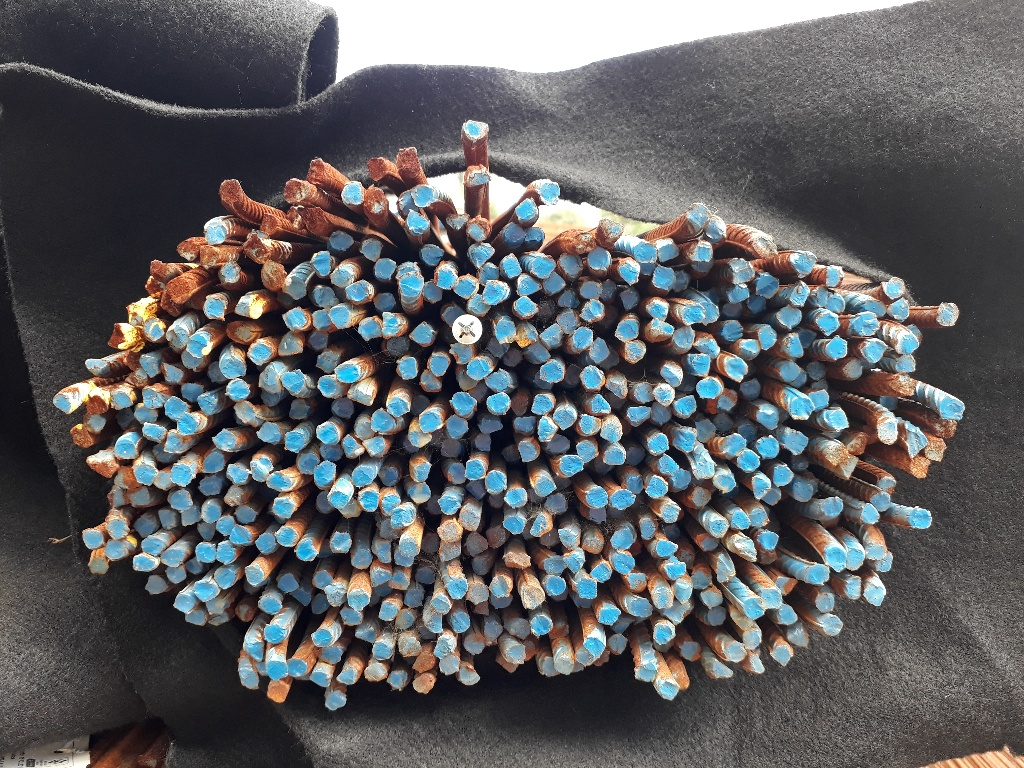dipstick: (107, 324, 140, 350), (260, 259, 287, 290), (242, 235, 270, 264), (790, 250, 817, 278), (235, 293, 263, 320), (731, 535, 757, 563), (226, 321, 257, 344), (467, 243, 494, 269), (530, 255, 557, 280), (450, 392, 478, 416), (257, 363, 281, 391), (664, 599, 693, 622), (891, 371, 916, 397), (729, 258, 755, 283), (789, 396, 815, 421), (671, 427, 697, 452), (467, 217, 492, 243), (453, 274, 479, 299), (370, 407, 395, 433), (853, 312, 880, 336), (86, 454, 114, 477), (905, 429, 927, 458), (364, 185, 386, 214), (784, 430, 809, 455), (651, 265, 676, 290), (539, 323, 564, 348), (924, 437, 948, 463), (688, 202, 712, 228), (579, 299, 605, 323), (514, 321, 538, 347), (467, 292, 491, 318), (280, 370, 306, 394), (158, 293, 182, 319), (165, 278, 189, 304), (781, 331, 804, 358), (863, 338, 887, 363), (785, 623, 810, 647), (446, 414, 470, 439), (410, 322, 435, 346), (433, 264, 457, 289), (316, 420, 340, 445), (282, 275, 307, 299), (164, 396, 188, 421), (936, 301, 959, 327), (752, 236, 778, 259), (610, 488, 636, 511), (481, 280, 504, 306), (776, 307, 803, 329), (537, 415, 558, 443), (523, 342, 551, 363), (462, 119, 490, 140), (724, 358, 748, 382), (755, 435, 779, 459), (656, 239, 680, 263), (528, 513, 552, 537), (400, 272, 424, 296), (342, 434, 366, 458), (250, 458, 274, 482), (221, 355, 245, 379), (863, 582, 886, 607), (755, 275, 780, 298), (559, 253, 584, 276), (504, 617, 529, 640), (203, 294, 226, 319), (788, 281, 810, 307), (212, 428, 238, 450), (589, 337, 610, 364), (380, 311, 401, 338), (278, 334, 305, 355), (883, 276, 906, 300), (825, 444, 849, 467), (689, 240, 713, 263), (647, 432, 670, 456), (587, 247, 610, 271), (606, 374, 629, 398), (540, 361, 564, 384), (502, 223, 526, 246), (487, 391, 511, 414), (465, 582, 489, 605), (397, 147, 420, 171), (324, 583, 347, 607), (220, 179, 243, 203), (126, 302, 150, 325), (826, 335, 848, 360), (735, 450, 760, 472), (661, 362, 683, 387), (624, 340, 646, 365), (611, 552, 636, 574), (543, 493, 568, 515), (556, 308, 578, 333), (314, 461, 336, 486), (225, 379, 250, 401), (281, 308, 306, 330), (168, 489, 193, 511), (757, 325, 778, 351), (696, 378, 722, 399), (626, 405, 652, 426), (495, 318, 516, 344), (193, 579, 219, 600), (199, 244, 220, 270), (715, 556, 735, 583), (544, 434, 571, 454), (504, 550, 531, 570), (816, 312, 839, 335), (743, 597, 766, 620), (700, 586, 723, 609), (518, 439, 541, 462), (484, 471, 507, 494), (185, 335, 208, 358), (219, 261, 242, 284), (585, 485, 609, 507), (514, 295, 538, 317), (410, 185, 434, 207), (341, 181, 363, 205), (361, 238, 383, 262), (330, 230, 354, 252), (357, 318, 381, 340), (348, 587, 370, 611), (226, 463, 250, 485), (248, 342, 272, 364), (284, 178, 306, 202), (837, 454, 858, 479), (599, 218, 624, 239), (580, 502, 606, 522), (502, 252, 522, 278), (437, 522, 463, 542), (334, 363, 360, 383), (141, 422, 167, 442), (758, 407, 780, 430), (694, 419, 716, 442), (682, 304, 705, 326), (580, 366, 602, 389), (573, 231, 596, 253), (485, 369, 508, 391), (466, 533, 488, 556), (396, 357, 418, 380), (421, 244, 444, 266), (390, 505, 412, 528), (330, 531, 352, 554), (413, 672, 435, 695), (276, 526, 298, 549), (214, 566, 236, 589), (162, 362, 185, 384), (142, 318, 165, 340), (705, 216, 726, 240), (634, 243, 658, 264), (674, 324, 695, 348), (610, 529, 634, 550), (629, 597, 653, 618), (522, 587, 546, 608), (541, 273, 565, 294), (514, 199, 538, 220), (539, 181, 560, 205), (441, 306, 465, 327), (317, 375, 341, 396), (361, 435, 385, 456), (371, 539, 392, 563), (256, 420, 280, 441), (172, 592, 196, 613), (177, 238, 198, 262), (573, 325, 593, 350), (516, 276, 541, 296), (510, 392, 530, 417), (355, 414, 375, 439), (144, 575, 169, 595), (878, 419, 897, 445), (465, 166, 491, 185), (266, 472, 292, 491), (807, 389, 829, 411), (744, 653, 766, 675), (653, 384, 675, 406), (624, 444, 646, 466), (617, 263, 639, 285), (477, 263, 499, 285), (450, 343, 472, 365), (446, 578, 468, 600), (408, 211, 430, 233), (296, 452, 318, 474), (278, 572, 300, 594), (303, 206, 325, 228), (170, 464, 192, 486), (825, 548, 846, 571), (821, 496, 844, 517), (760, 588, 783, 609), (693, 459, 716, 480), (674, 395, 697, 416), (456, 369, 479, 390), (504, 488, 527, 509), (418, 411, 441, 432), (422, 280, 443, 303), (344, 282, 367, 303), (413, 652, 436, 673), (272, 497, 295, 518), (265, 660, 288, 681), (229, 524, 252, 545), (196, 392, 217, 415), (70, 426, 93, 447), (139, 355, 160, 378), (848, 432, 868, 456), (718, 388, 738, 412), (699, 301, 719, 325), (552, 410, 576, 430), (465, 359, 489, 379), (424, 610, 444, 634), (314, 286, 338, 306), (134, 403, 158, 423), (166, 327, 190, 347), (725, 283, 750, 302), (696, 338, 721, 357), (620, 287, 639, 312), (312, 251, 331, 276), (105, 519, 130, 538), (911, 507, 932, 529), (746, 292, 768, 313), (721, 321, 743, 342), (739, 379, 761, 400), (736, 422, 758, 443), (748, 507, 770, 528), (691, 569, 713, 590), (680, 640, 702, 661), (632, 382, 654, 403), (576, 440, 598, 461), (634, 662, 656, 683), (577, 577, 598, 599), (458, 509, 479, 531), (488, 577, 510, 598), (439, 540, 461, 561), (438, 494, 460, 515), (421, 370, 442, 392), (374, 259, 396, 280), (330, 267, 352, 288), (329, 305, 350, 327), (317, 352, 339, 373), (409, 482, 431, 503), (255, 532, 276, 554), (234, 400, 255, 422), (289, 399, 311, 420), (180, 505, 201, 527), (202, 452, 224, 473), (176, 414, 198, 435), (150, 259, 171, 281), (806, 564, 829, 584), (775, 605, 798, 625), (531, 394, 554, 414), (387, 336, 410, 356), (367, 158, 387, 181), (399, 636, 422, 656), (295, 541, 318, 561), (346, 389, 373, 406), (132, 554, 159, 571), (751, 476, 770, 500), (774, 576, 798, 595), (712, 473, 736, 492), (650, 318, 674, 337), (664, 561, 688, 580), (645, 478, 669, 497), (486, 524, 505, 548), (331, 399, 355, 418), (216, 541, 235, 565), (198, 476, 222, 495), (844, 575, 862, 600), (316, 646, 342, 663), (888, 299, 909, 320), (739, 340, 760, 361), (729, 509, 750, 530), (727, 641, 748, 662), (653, 588, 674, 609), (607, 635, 628, 656), (557, 528, 578, 549), (465, 479, 486, 500), (352, 466, 373, 487), (378, 601, 399, 622), (291, 585, 312, 606), (114, 466, 135, 487), (86, 394, 107, 415), (205, 224, 226, 245), (897, 334, 919, 354), (910, 456, 930, 478), (860, 503, 880, 525), (829, 408, 849, 430), (793, 481, 813, 503), (726, 434, 746, 456), (770, 646, 792, 666), (691, 353, 711, 375), (650, 403, 672, 423), (658, 454, 680, 474), (670, 468, 692, 488), (544, 575, 566, 595), (540, 527, 562, 547), (534, 476, 556, 496), (513, 415, 535, 435), (463, 460, 485, 480), (266, 683, 288, 703), (195, 542, 217, 562), (141, 388, 163, 408), (845, 547, 864, 570), (603, 446, 626, 465), (487, 338, 510, 357), (339, 607, 362, 626), (126, 487, 149, 506), (180, 383, 203, 402), (83, 415, 106, 434), (181, 349, 204, 368), (940, 402, 964, 420), (599, 423, 623, 441), (582, 636, 606, 654), (445, 212, 469, 230), (479, 416, 503, 434), (407, 430, 432, 447), (84, 358, 109, 375), (937, 417, 958, 437), (807, 360, 827, 381), (780, 361, 800, 382), (774, 465, 794, 486), (822, 615, 842, 636), (741, 630, 762, 650), (673, 581, 693, 602), (623, 475, 644, 495), (590, 393, 611, 413), (504, 644, 525, 664), (464, 634, 484, 655), (431, 593, 451, 614), (377, 466, 398, 486), (404, 588, 425, 608), (340, 499, 361, 519), (372, 640, 392, 661), (355, 622, 375, 643), (284, 431, 304, 452), (264, 623, 285, 643), (260, 213, 280, 234), (106, 540, 127, 560), (82, 528, 103, 548), (201, 502, 222, 522), (115, 441, 136, 461), (844, 358, 863, 380), (758, 531, 780, 550), (698, 532, 720, 551), (652, 625, 674, 644), (615, 323, 637, 342), (561, 455, 583, 474), (599, 606, 621, 625), (541, 655, 560, 677), (530, 615, 552, 634), (590, 563, 612, 582), (545, 556, 567, 575), (433, 636, 452, 658), (430, 354, 449, 376), (359, 490, 378, 512), (326, 491, 348, 510), (324, 692, 346, 711), (165, 565, 187, 584), (134, 516, 153, 538), (135, 466, 157, 485), (126, 368, 148, 387), (671, 270, 689, 293), (580, 282, 603, 300), (503, 516, 526, 534), (458, 666, 481, 684), (452, 611, 470, 634), (400, 191, 418, 214), (363, 663, 386, 681), (163, 429, 181, 452), (656, 540, 680, 557), (319, 443, 343, 460), (258, 595, 282, 612), (815, 593, 835, 613), (439, 655, 459, 675), (400, 538, 420, 558), (351, 550, 371, 570), (145, 277, 165, 297), (864, 542, 885, 561), (874, 551, 893, 572), (447, 462, 466, 483), (394, 609, 415, 628), (387, 670, 408, 689), (234, 603, 255, 622), (245, 565, 264, 586), (223, 486, 244, 505), (88, 556, 109, 575), (207, 361, 226, 382), (579, 414, 601, 432), (553, 656, 575, 674), (523, 226, 545, 244), (374, 293, 396, 311), (388, 398, 410, 416), (285, 206, 303, 228), (110, 391, 132, 409), (710, 660, 733, 677), (574, 648, 597, 665), (316, 491, 333, 514), (611, 617, 635, 633), (827, 293, 846, 313), (789, 451, 809, 470), (692, 486, 711, 506), (660, 504, 680, 523), (627, 573, 647, 592), (550, 619, 570, 638), (467, 383, 487, 402), (382, 494, 401, 514), (379, 519, 398, 539), (287, 658, 307, 677), (106, 487, 125, 507), (53, 393, 72, 413), (870, 493, 891, 511), (708, 519, 729, 537), (602, 348, 620, 369), (582, 537, 603, 555), (659, 682, 680, 700), (557, 290, 578, 308), (496, 656, 517, 674), (415, 460, 433, 481), (312, 569, 333, 587), (160, 550, 181, 568), (158, 509, 176, 530), (153, 471, 174, 489), (153, 444, 174, 462), (864, 299, 886, 316), (312, 593, 329, 615), (235, 505, 257, 522), (640, 517, 656, 540), (600, 279, 616, 302), (422, 532, 438, 555), (309, 671, 332, 687), (183, 610, 206, 626), (673, 672, 692, 691), (504, 349, 523, 368), (483, 621, 502, 640), (441, 439, 460, 458), (216, 516, 235, 535), (826, 266, 844, 286), (812, 286, 830, 306), (708, 605, 726, 625), (594, 456, 614, 474), (533, 371, 553, 389), (240, 671, 260, 689), (308, 160, 326, 180), (141, 538, 161, 556), (799, 328, 816, 349), (712, 414, 733, 431), (388, 573, 409, 590), (565, 363, 581, 385), (490, 592, 512, 608), (398, 262, 420, 278), (677, 373, 696, 391), (308, 330, 327, 348), (312, 310, 330, 329), (197, 520, 215, 539), (648, 303, 668, 320), (678, 547, 695, 567), (606, 391, 626, 408), (394, 549, 414, 566), (415, 567, 435, 584), (371, 569, 391, 586), (261, 389, 281, 406), (205, 596, 225, 613), (116, 408, 133, 428), (468, 600, 489, 616), (335, 668, 356, 684), (207, 610, 228, 626), (310, 630, 332, 645), (907, 325, 925, 343), (763, 487, 781, 505), (563, 556, 581, 574), (475, 433, 492, 452), (412, 395, 429, 414), (184, 558, 203, 575), (895, 355, 915, 371), (429, 428, 445, 448), (758, 550, 779, 565), (502, 444, 520, 461), (553, 474, 572, 490), (722, 302, 742, 317), (523, 638, 536, 661), (662, 524, 680, 540), (574, 593, 592, 609), (472, 557, 488, 575), (791, 367, 806, 386), (428, 494, 443, 513), (876, 477, 896, 491), (692, 259, 715, 271), (550, 587, 568, 602), (638, 262, 658, 275), (489, 491, 504, 508), (316, 540, 331, 557), (246, 643, 263, 658), (375, 582, 393, 595), (527, 489, 542, 503), (244, 580, 260, 593), (812, 380, 828, 389), (257, 660, 266, 674)
